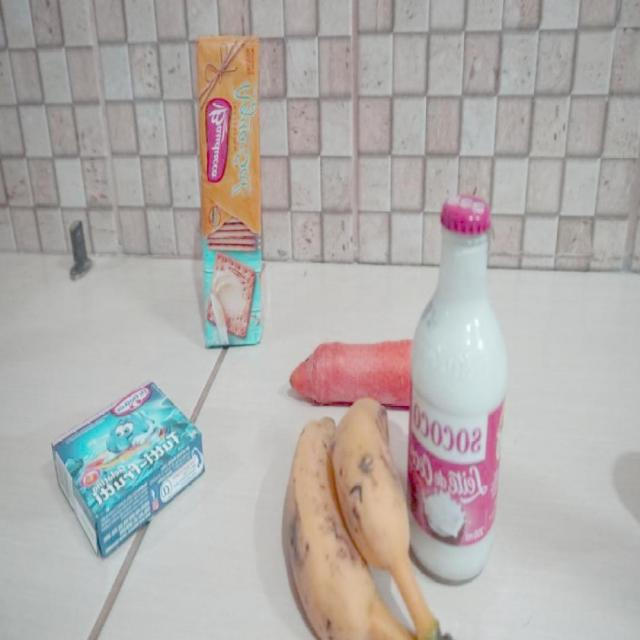Banana: (280, 396, 468, 640)
Carrot: (288, 338, 416, 406)
CoconutMilk: (402, 194, 508, 578)
Cracker: (194, 30, 264, 347)
Gelatine: (50, 377, 205, 563)
